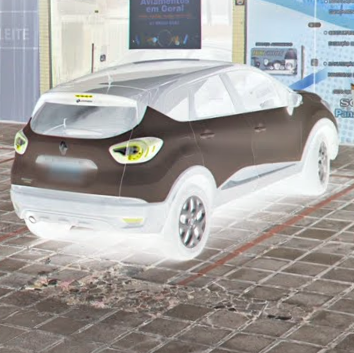car: (10, 54, 342, 259)
